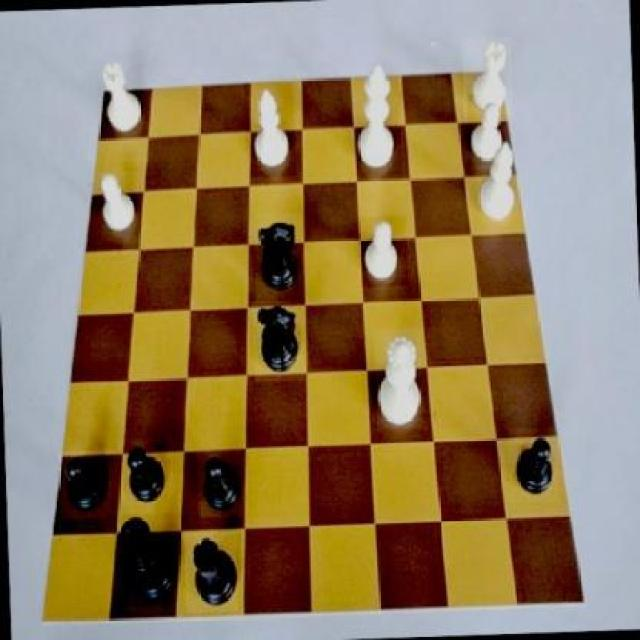black-bishop: (114, 512, 181, 606)
black-king: (252, 298, 305, 381), (253, 214, 304, 298)
black-knight: (118, 437, 174, 515), (508, 426, 560, 502), (59, 449, 112, 519), (197, 449, 243, 518)
black-queen: (184, 532, 238, 613)
black-rook: (245, 82, 297, 178), (474, 137, 521, 234)
white-bishop: (352, 60, 402, 175)
white-knight: (358, 215, 408, 288), (92, 171, 140, 244), (466, 92, 506, 166)
white-pawn: (372, 328, 422, 428)
white-queen: (94, 49, 149, 137), (461, 35, 514, 118)
